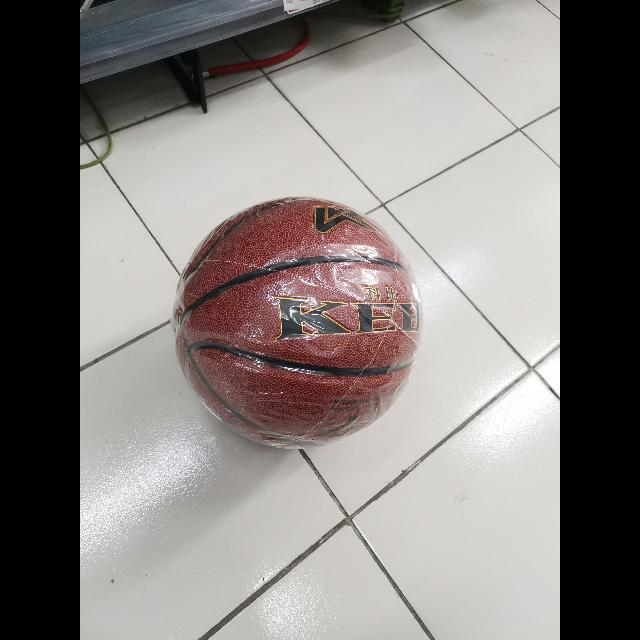basketball: (175, 198, 422, 450)
